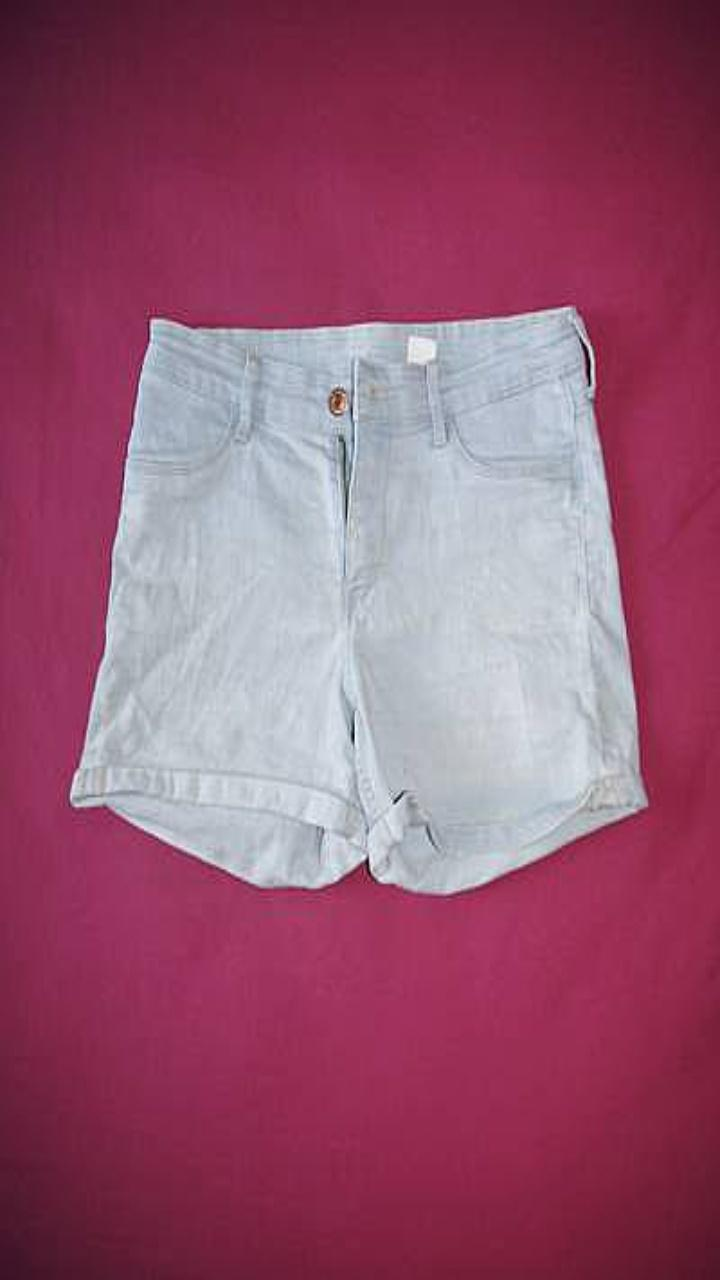Shorts: (70, 305, 647, 893)
